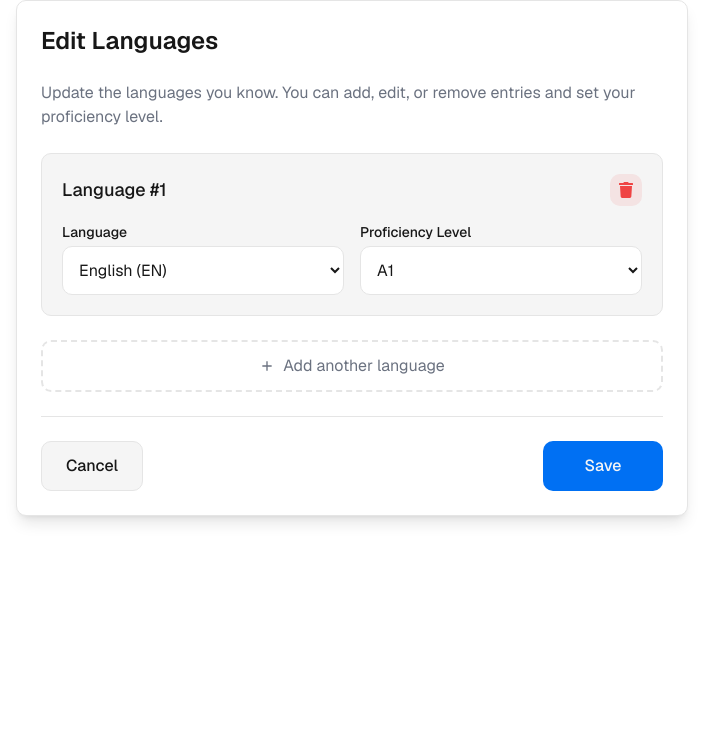
EditLanguagesForm Component › Przesyłanie i aktualizacja danych › powinien zablokować zapis w przypadku braku wybranego języka
Click the button "Add another language" at (352,366), box [41, 340, 663, 392]
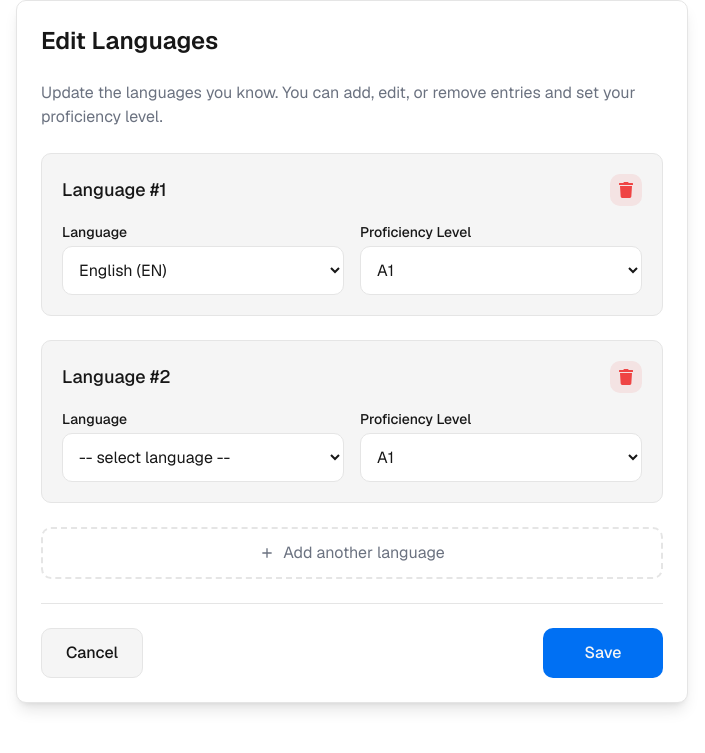
Click the button "Save" at (603,653), box [543, 628, 663, 678]
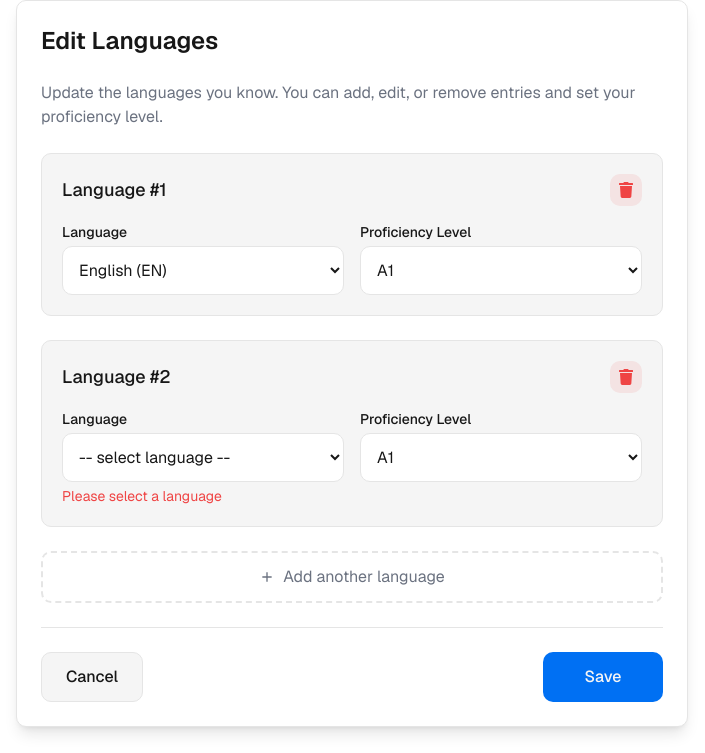
expect the text "Please select a language" is shown: met, box [62, 487, 222, 505]
